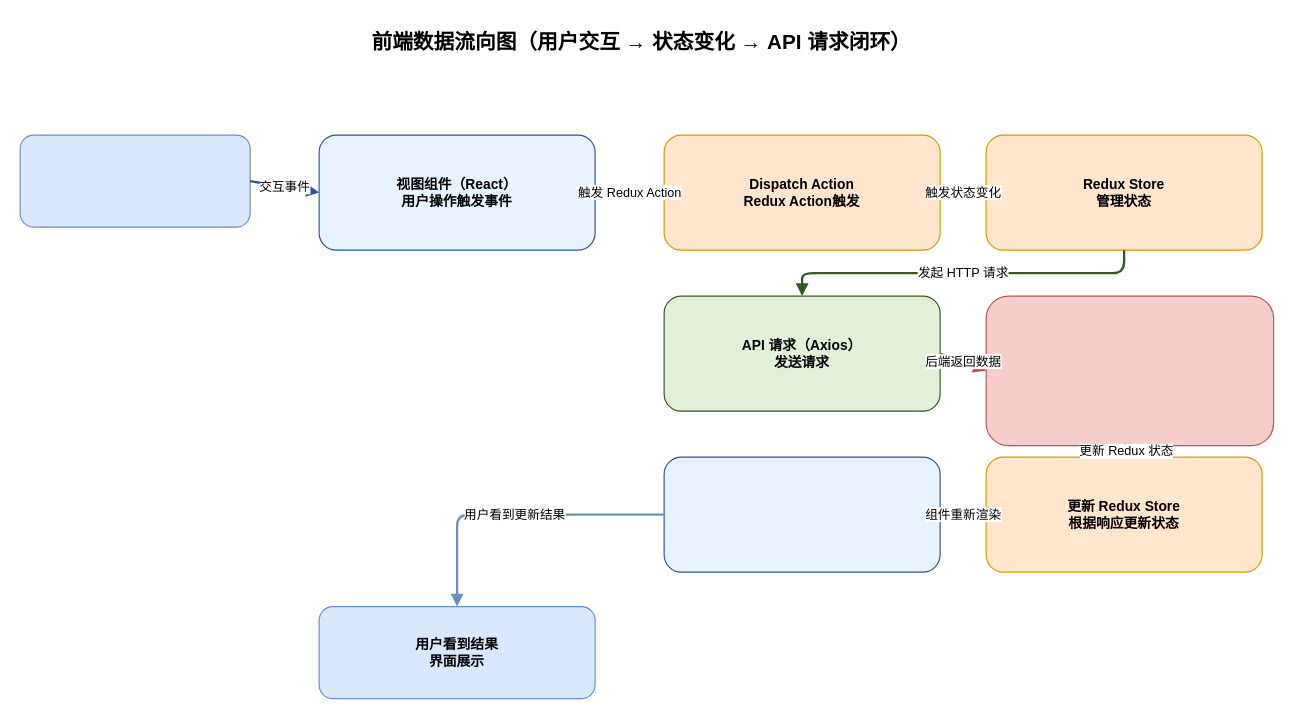
The diagram is 1294 pixels wide and 719 high, and some of its shapes have lost their labels. The centre of each missing label's shape, as x and y in pixels:
"后端 API 服务 返回数据" goes at [1129,370].
"用户交互" goes at [134,180].
"组件重新渲染 视图更新" goes at [801,514].
